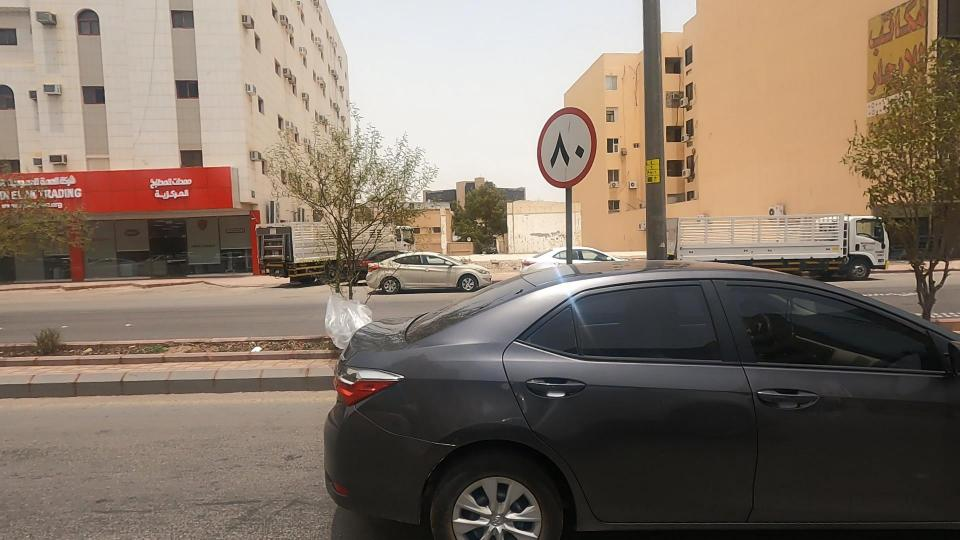GARBAGE: (271, 261, 417, 371), (195, 322, 317, 386)
